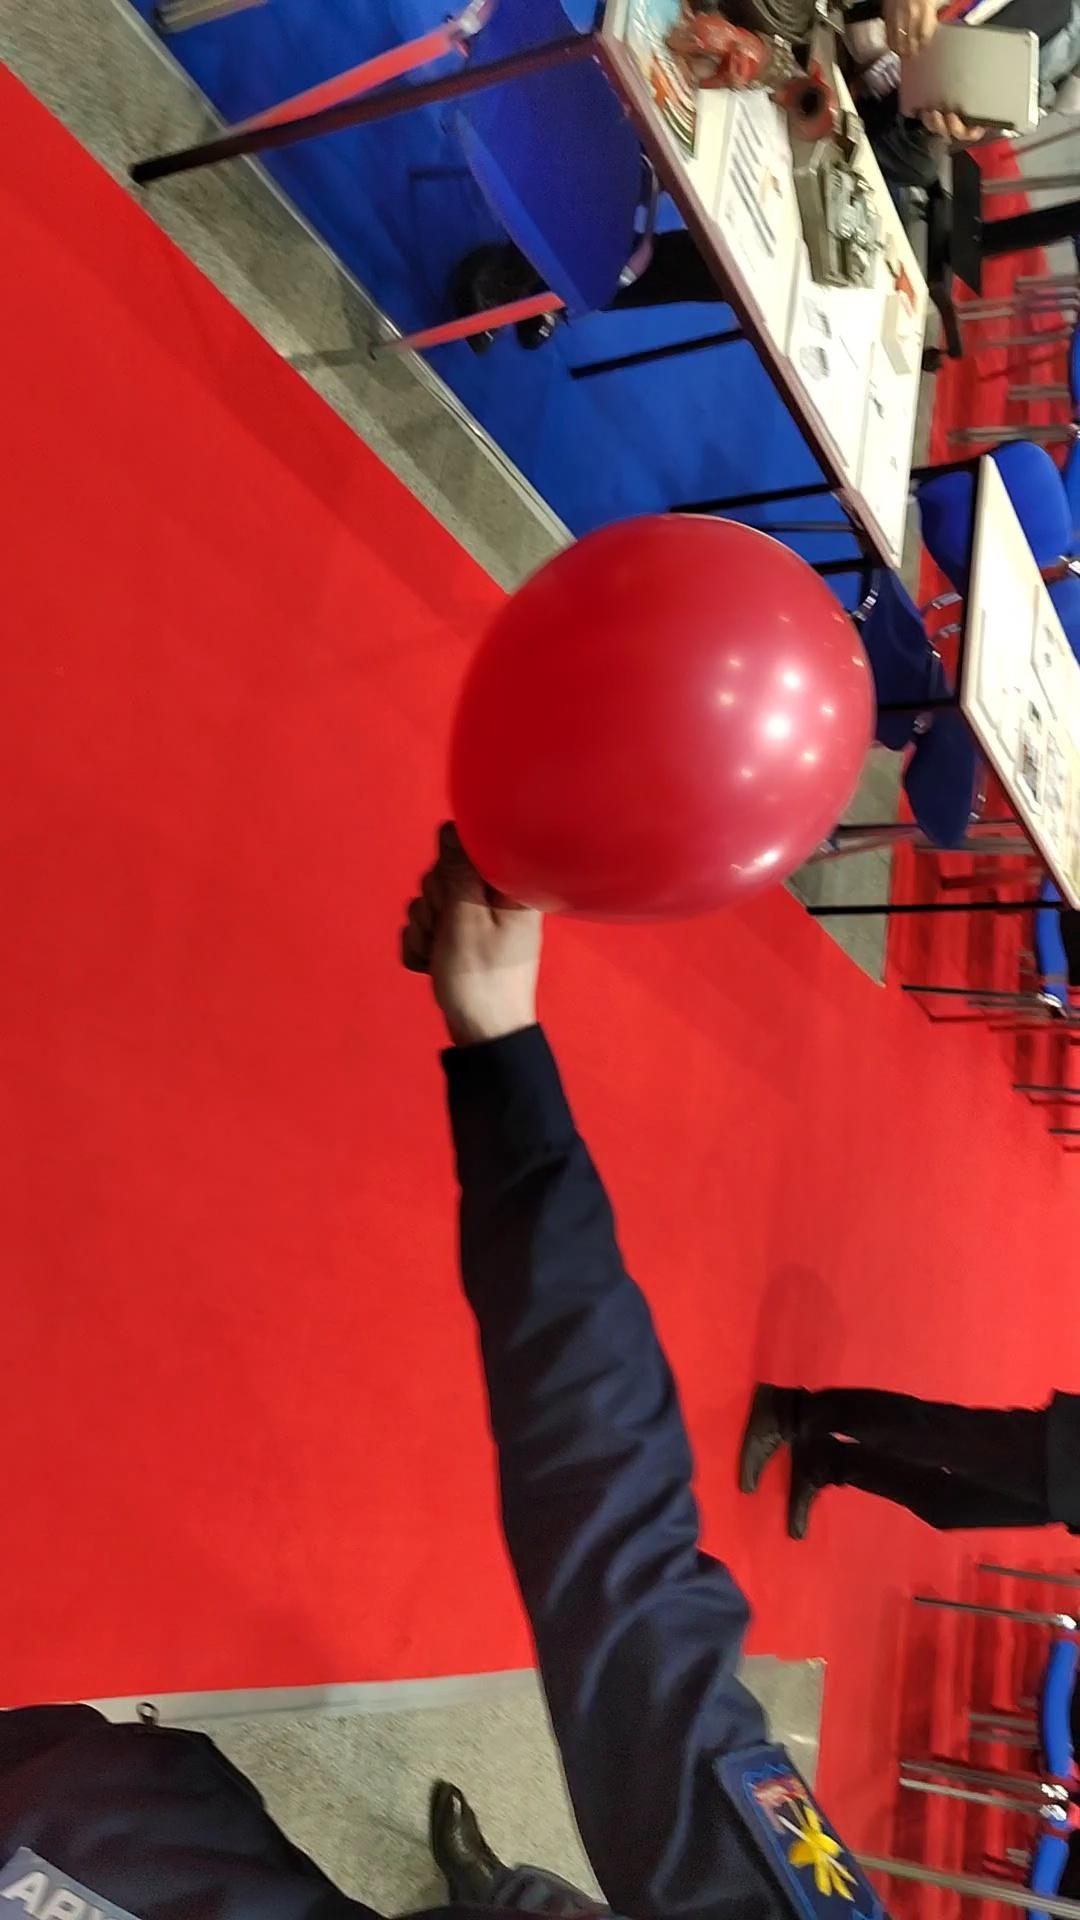red: (443, 508, 876, 926)
